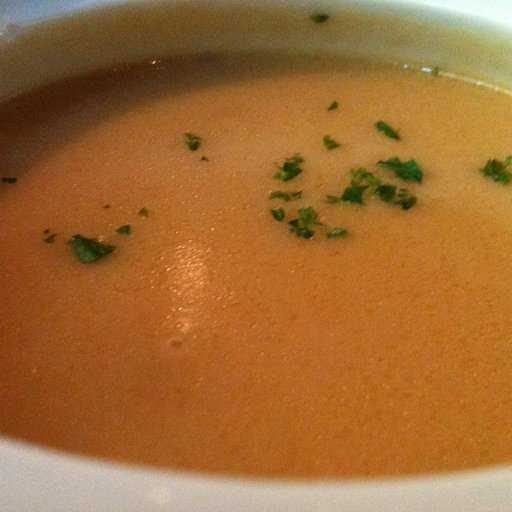soup: (6, 21, 512, 477)
